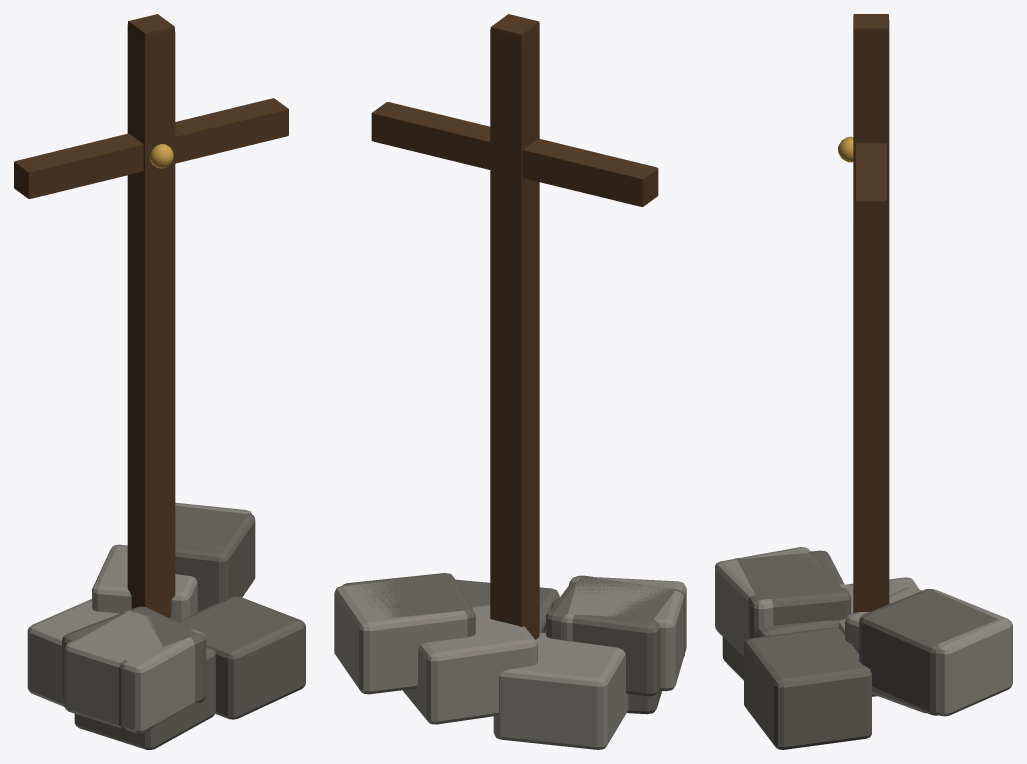
File: gipfelkreuz.glb
3 renders of one model, left to right at view 1: azimuth 30°, elevation 25°; view 2: azimuth 150°, elevation 25°; view 3: azimuth 270°, elevation 25°, orthographic. The views are drawn at different scales.
Parts seen in each view (by area): view 1: Cube; view 2: Cube; view 3: Cube.
Part boxes in pixels (bbox=[...]): Cube: bbox=[14, 14, 305, 749]; Cube: bbox=[334, 14, 686, 749]; Cube: bbox=[715, 14, 1012, 749].
Bounding box in the file's own units: 1.23 × 2.9 × 1.16.
